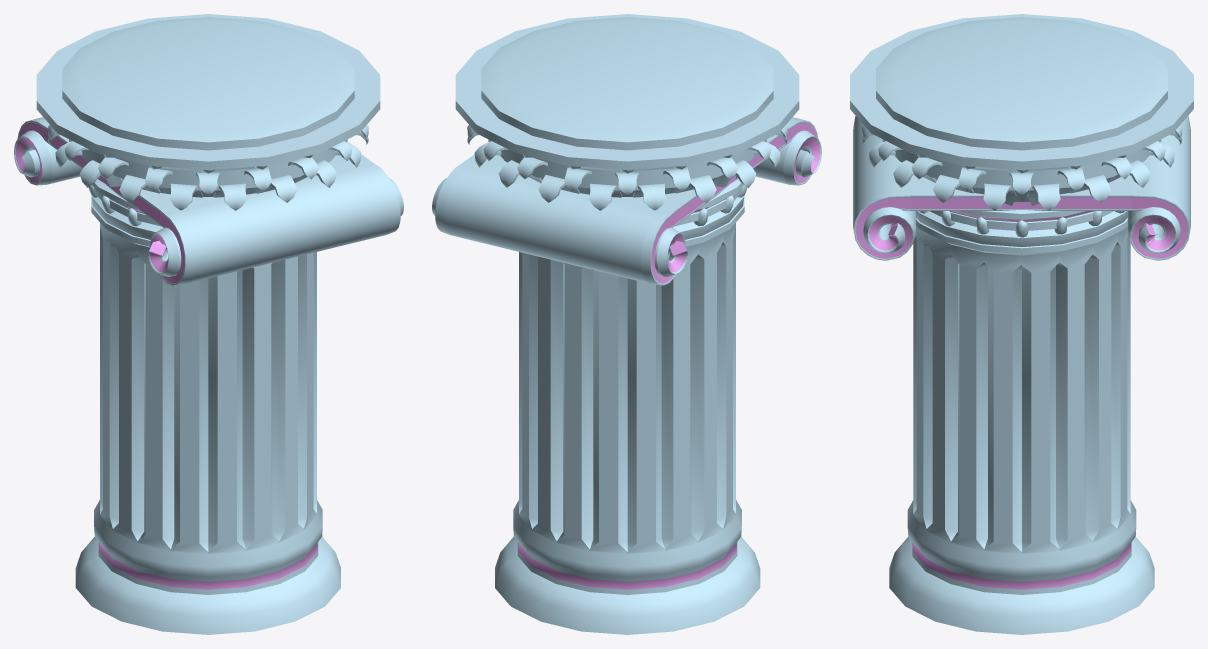
The model's file is Columns.fbx.
3 views of the same model, side by side, from view 1: azimuth 30°, elevation 25°; view 2: azimuth 150°, elevation 25°; view 3: azimuth 270°, elevation 25° (orthographic).
Visible parts, largest first — view 1: Column 1, Column3, Column2; view 2: Column 1, Column3, Column2; view 3: Column 1, Column3, Column2.
Boxes of the visible parts, box(x1,y1,x2,y2) form: Column 1: box(36, 14, 380, 634); Column3: box(48, 17, 368, 247); Column2: box(14, 117, 403, 285); Column 1: box(455, 14, 799, 634); Column3: box(467, 17, 787, 247); Column2: box(432, 117, 821, 285); Column 1: box(850, 14, 1193, 634); Column3: box(861, 17, 1182, 255); Column2: box(853, 116, 1190, 260).
Size of the model in its own units: 843 by 1336 by 830.
